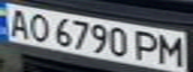0: (106, 25, 133, 58)
6: (48, 16, 75, 47)
7: (66, 18, 90, 52)
9: (87, 21, 109, 54)
A: (3, 6, 33, 38)
M: (154, 33, 190, 66)
O: (24, 11, 54, 43)
P: (130, 29, 163, 63)
